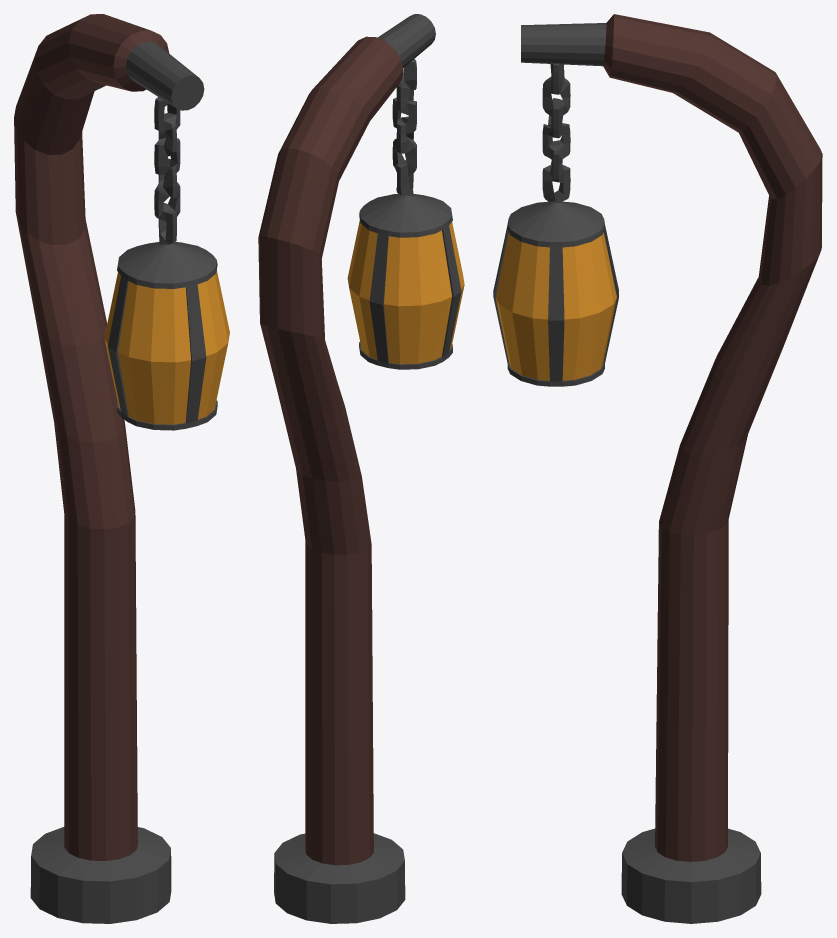
Rendered from LampPost.fbx.
The picture shows the model from 3 angles, left to right: view 1: azimuth 30°, elevation 25°; view 2: azimuth 150°, elevation 25°; view 3: azimuth 270°, elevation 25°; orthographic projection. The views are drawn at different scales.
Parts seen in each view (by area): view 1: lampPost; view 2: lampPost; view 3: lampPost.
Part boxes in pixels (left/top/right/bottom): lampPost: left=14, top=14, right=229, bottom=923; lampPost: left=258, top=14, right=464, bottom=923; lampPost: left=493, top=14, right=822, bottom=923.
Bounding box in the file's own units: 47.52 × 329 × 112.
